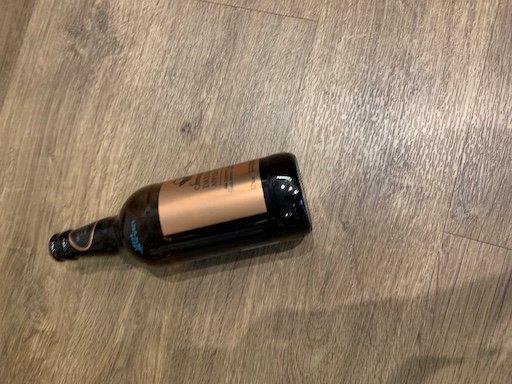botolkaca: (49, 153, 313, 266)
